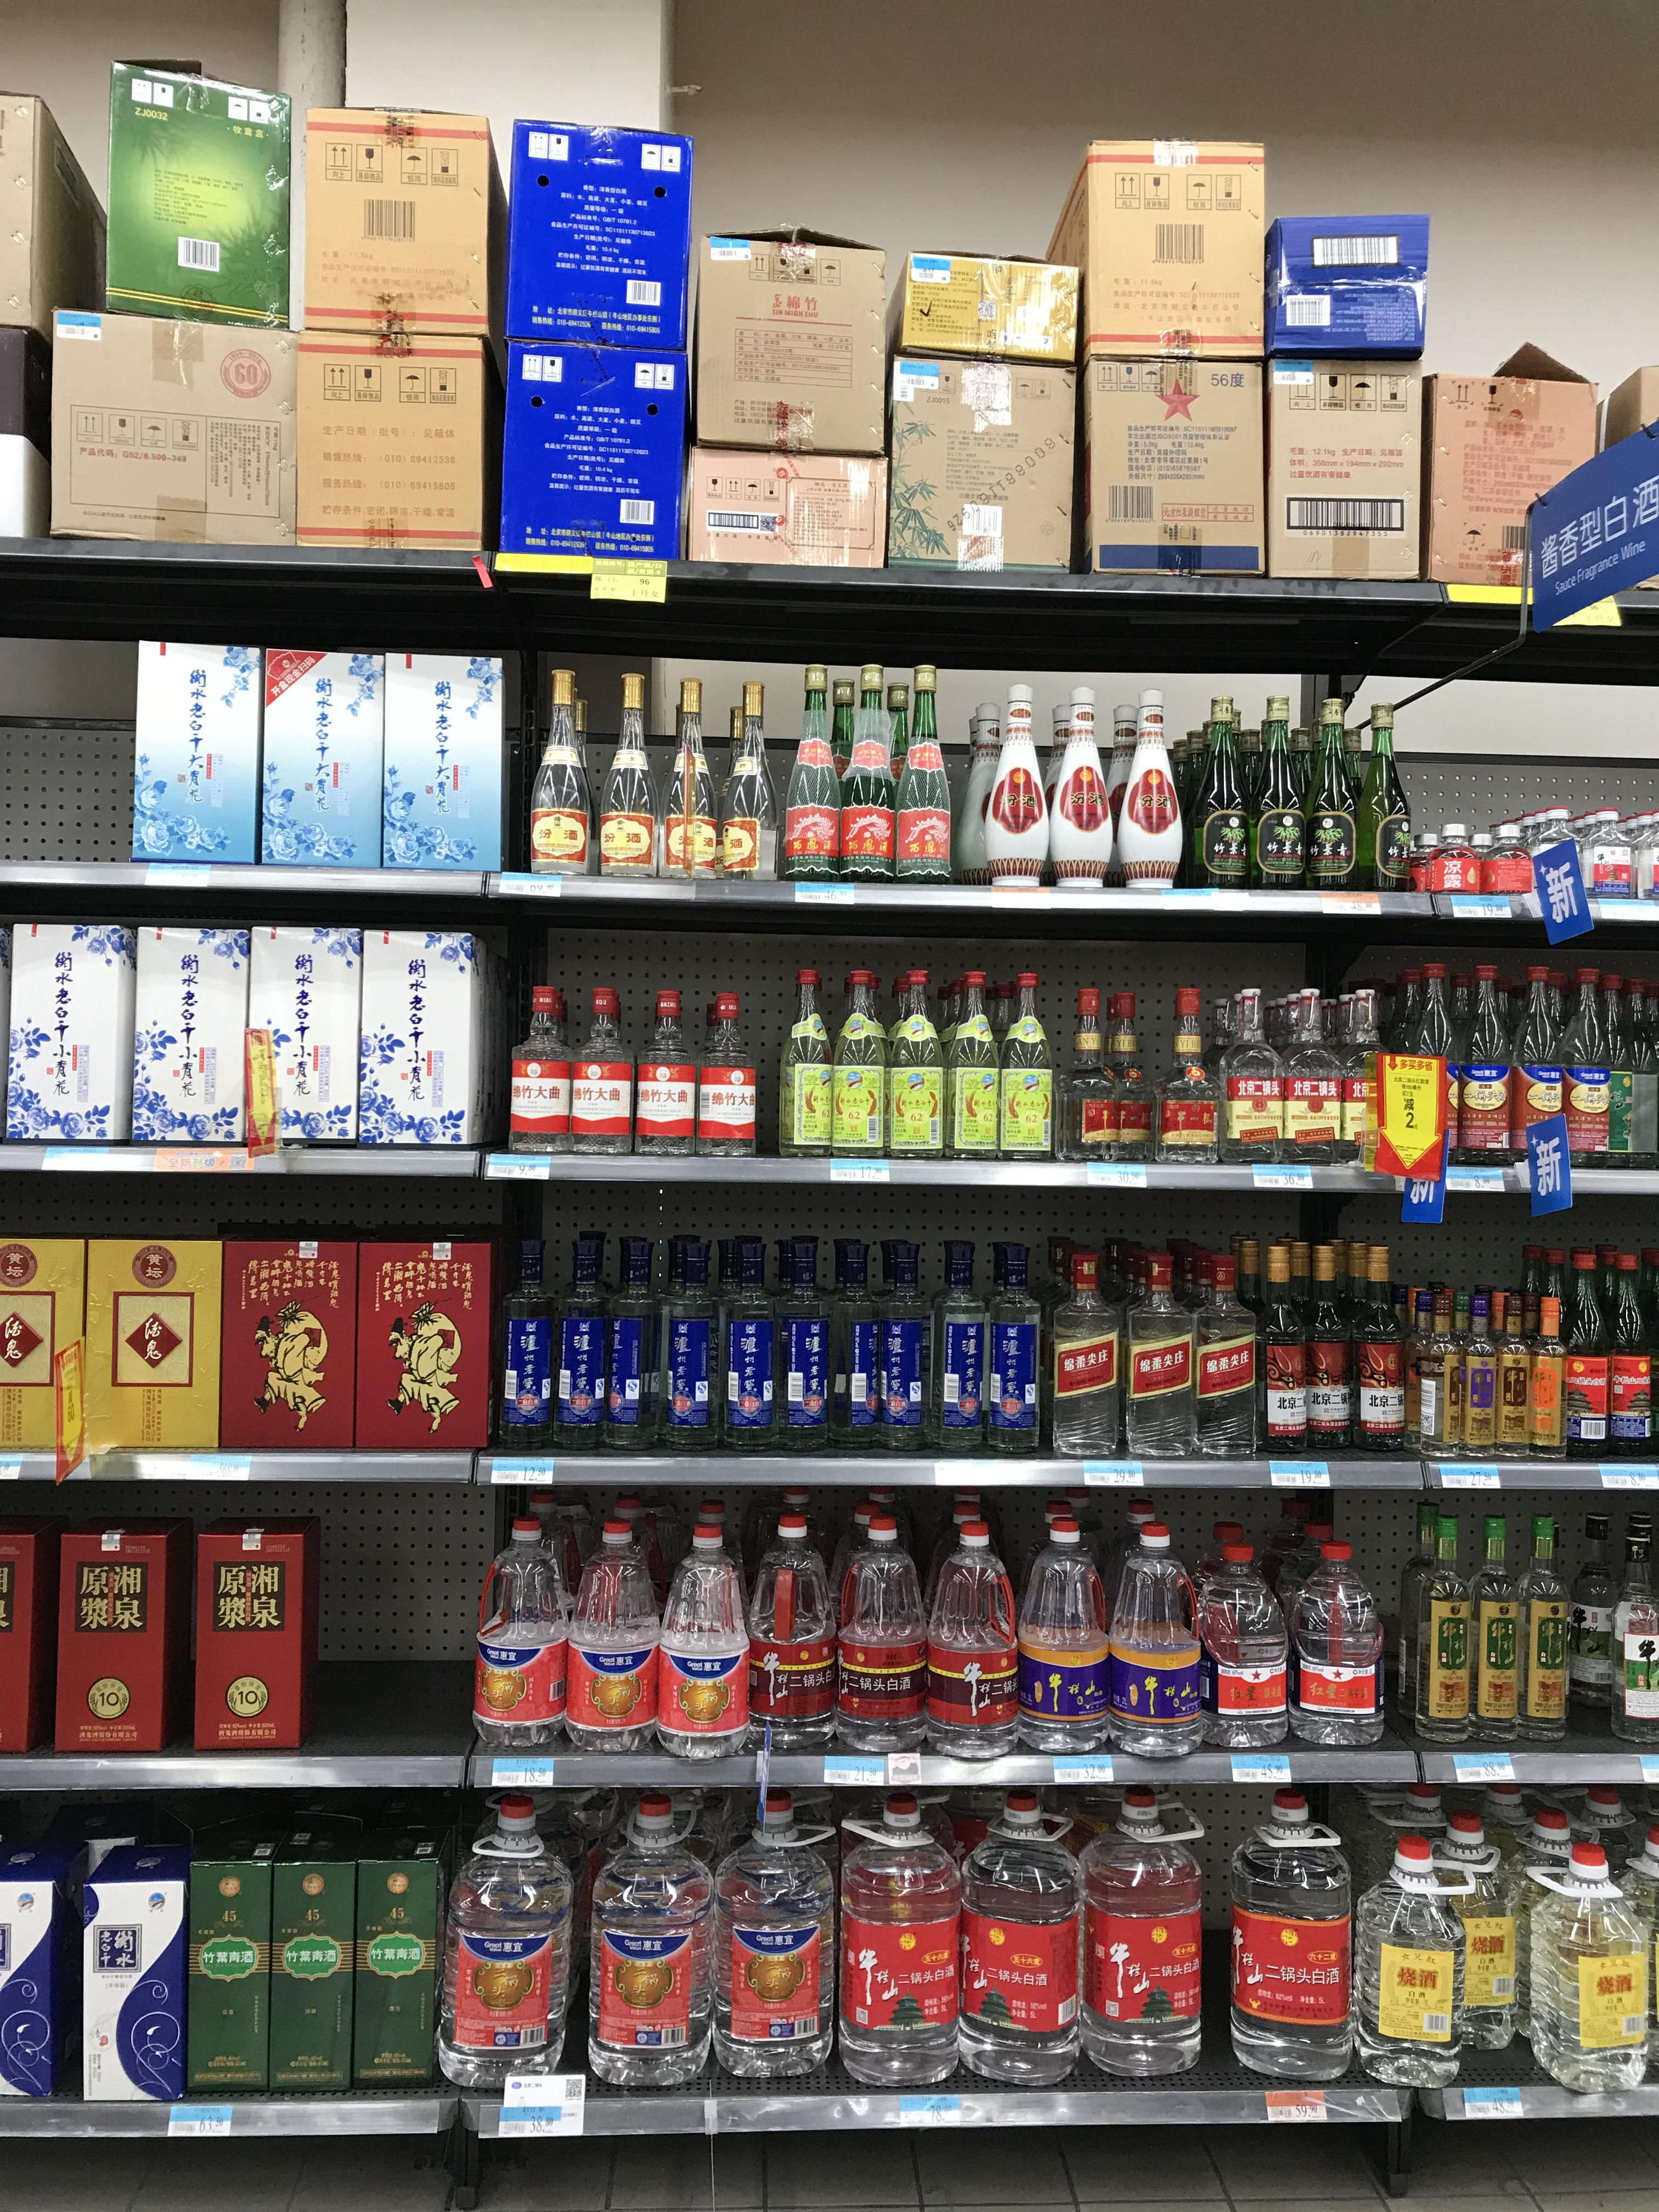bag: (0, 1820, 84, 2104), (1551, 1851, 1647, 2081)
bottle: (1227, 1791, 1354, 2080), (957, 1797, 1082, 2088), (1077, 1799, 1204, 2085), (586, 1797, 706, 2092), (711, 1804, 826, 2092), (1358, 1831, 1455, 2073), (920, 1519, 1019, 1754), (1011, 1517, 1108, 1756), (830, 1512, 927, 1745), (1103, 1527, 1201, 1759), (741, 1515, 836, 1749), (655, 1524, 746, 1757), (472, 1527, 565, 1750), (568, 1526, 657, 1754), (1195, 1541, 1290, 1747), (1291, 1543, 1385, 1743), (1441, 1824, 1516, 2059), (1044, 1251, 1122, 1458), (1406, 1510, 1474, 1743), (925, 1244, 997, 1456), (1500, 1517, 1568, 1740), (1124, 1258, 1199, 1460), (974, 1240, 1042, 1461), (972, 688, 1046, 883), (711, 1237, 777, 1451), (1466, 1517, 1528, 1742), (1192, 1252, 1258, 1458), (870, 1242, 932, 1456), (606, 1235, 667, 1454), (1114, 691, 1182, 887), (657, 1238, 718, 1454), (551, 1231, 610, 1453), (892, 667, 953, 881), (599, 672, 662, 880), (1549, 1245, 1608, 1460), (1384, 967, 1450, 1158), (1561, 1515, 1619, 1733), (498, 1242, 556, 1460), (770, 1240, 830, 1451), (1192, 700, 1258, 887), (1047, 691, 1110, 887), (1504, 970, 1567, 1165), (1596, 1249, 1654, 1460), (840, 672, 897, 881), (1267, 993, 1338, 1160), (532, 674, 591, 874), (1554, 970, 1614, 1169), (1455, 967, 1514, 1165), (823, 1242, 878, 1453), (782, 686, 843, 878), (1356, 1249, 1412, 1458), (657, 681, 714, 880), (1351, 725, 1419, 890), (1253, 1245, 1305, 1460), (1251, 700, 1310, 888), (1420, 968, 1478, 1162), (714, 685, 772, 876), (1302, 1247, 1354, 1458), (941, 970, 1000, 1155), (1527, 1259, 1579, 1463), (1595, 975, 1649, 1172), (1300, 702, 1358, 887), (885, 968, 943, 1153), (995, 974, 1053, 1155), (1216, 995, 1279, 1160), (781, 970, 838, 1150), (831, 974, 889, 1151), (509, 986, 572, 1148), (572, 988, 634, 1150), (697, 991, 758, 1151), (751, 688, 803, 874), (1612, 1526, 1657, 1738), (638, 991, 697, 1151), (1328, 991, 1384, 1153), (1157, 1000, 1213, 1160), (1063, 989, 1115, 1155), (1455, 1296, 1504, 1458), (1516, 1285, 1561, 1460), (1098, 995, 1147, 1155), (1412, 1301, 1459, 1458), (1474, 1299, 1520, 1460), (1537, 810, 1586, 902), (1584, 813, 1635, 902), (1483, 826, 1534, 895)
box: (45, 307, 282, 559), (293, 99, 483, 341), (502, 122, 687, 369), (498, 334, 681, 578), (286, 329, 488, 549), (357, 1223, 498, 1482), (45, 1505, 185, 1759), (223, 1231, 357, 1454), (115, 1843, 232, 2097), (77, 1224, 202, 1449), (350, 1817, 446, 2107), (352, 932, 477, 1150), (186, 1510, 300, 1750), (261, 1813, 356, 2097), (145, 644, 267, 860), (265, 653, 389, 862), (174, 1839, 274, 2095), (132, 923, 247, 1141), (373, 653, 486, 866), (31, 916, 139, 1137), (2, 923, 96, 1137), (234, 925, 322, 1143), (272, 927, 361, 1143), (0, 1216, 73, 1453), (430, 660, 512, 862)
bucket: (831, 1804, 964, 2087), (441, 1801, 559, 2090)
jar: (1420, 826, 1469, 897)
others: (687, 230, 913, 472), (878, 333, 1091, 573), (1441, 357, 1628, 631), (84, 66, 286, 314), (1056, 145, 1281, 366), (1073, 329, 1270, 575), (1269, 334, 1429, 573), (1255, 202, 1436, 371), (683, 442, 884, 561), (884, 254, 1077, 352)
